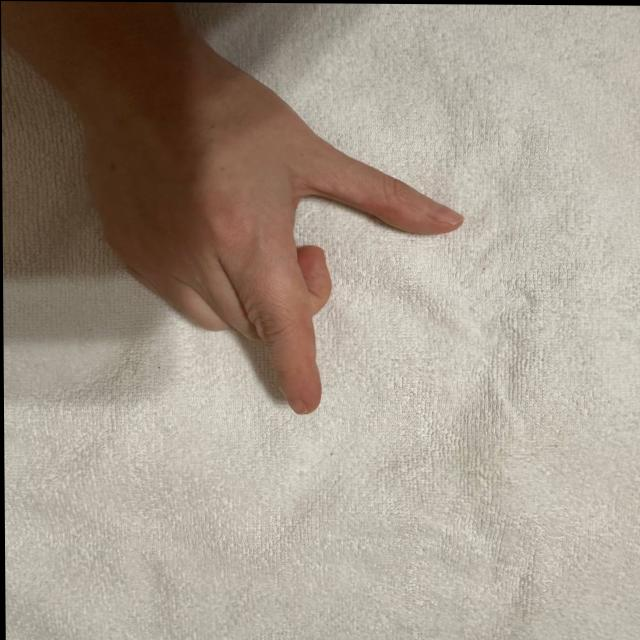-: (34, 122, 501, 445)
